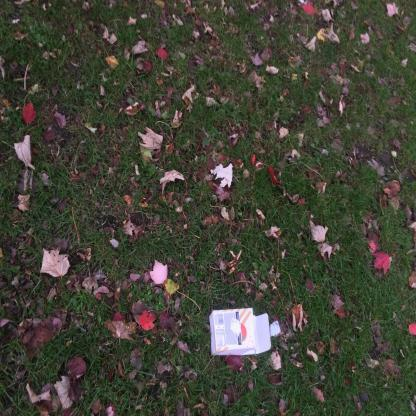karton: (210, 308, 272, 358)
